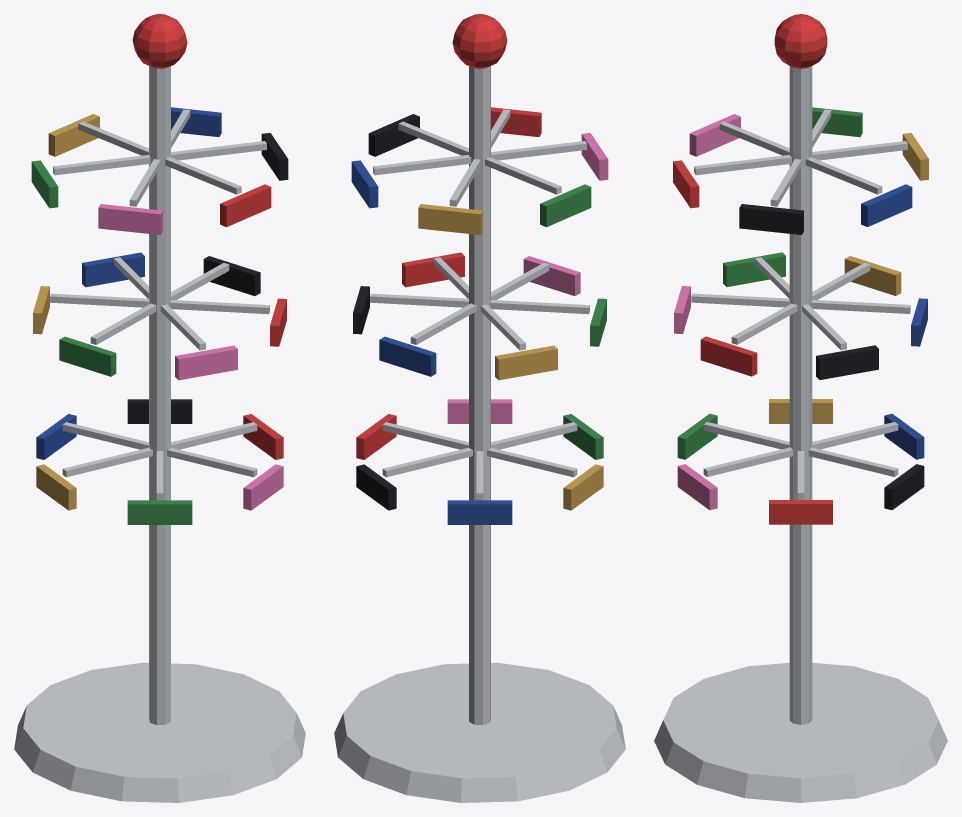
The model's file is glasses_carousel.glb.
The picture shows the model from 3 angles, left to right: view 1: azimuth 30°, elevation 25°; view 2: azimuth 150°, elevation 25°; view 3: azimuth 270°, elevation 25°; orthographic projection.
Visible parts, largest first — view 1: foot_carousel_chrome, pole_carousel_chrome, arm_carousel_chrome, pair_frame_e07ab8 (×3), pair_frame_3a8a4a (×3), pair_frame_2c4f9e (×3), pair_frame_1e1e24 (×3), pair_frame_d23a3a (×3), pair_frame_c8a050 (×3), cap_carousel_cap; view 2: foot_carousel_chrome, pole_carousel_chrome, arm_carousel_chrome, pair_frame_c8a050 (×3), pair_frame_2c4f9e (×3), pair_frame_d23a3a (×3), pair_frame_e07ab8 (×3), pair_frame_3a8a4a (×3), pair_frame_1e1e24 (×3), cap_carousel_cap; view 3: foot_carousel_chrome, pole_carousel_chrome, arm_carousel_chrome, pair_frame_1e1e24 (×3), pair_frame_d23a3a (×3), pair_frame_3a8a4a (×3), pair_frame_c8a050 (×3), pair_frame_2c4f9e (×3), pair_frame_e07ab8 (×3), cap_carousel_cap.
Boxes of the visible parts, x1,y1,x2,y2 form: foot_carousel_chrome: [14, 662, 305, 802]; pole_carousel_chrome: [149, 66, 170, 725]; arm_carousel_chrome: [50, 109, 269, 499]; pair_frame_e07ab8 (×3): [98, 204, 283, 510]; pair_frame_3a8a4a (×3): [31, 160, 192, 524]; pair_frame_2c4f9e (×3): [36, 107, 221, 459]; pair_frame_1e1e24 (×3): [127, 133, 288, 423]; pair_frame_d23a3a (×3): [220, 184, 286, 459]; pair_frame_c8a050 (×3): [33, 114, 99, 510]; cap_carousel_cap: [132, 14, 187, 68]; foot_carousel_chrome: [334, 662, 625, 802]; pole_carousel_chrome: [469, 66, 490, 725]; arm_carousel_chrome: [370, 109, 589, 499]; pair_frame_c8a050 (×3): [418, 204, 603, 510]; pair_frame_2c4f9e (×3): [351, 160, 512, 524]; pair_frame_d23a3a (×3): [356, 107, 541, 459]; pair_frame_e07ab8 (×3): [447, 133, 608, 423]; pair_frame_3a8a4a (×3): [540, 184, 606, 459]; pair_frame_1e1e24 (×3): [353, 114, 419, 510]; cap_carousel_cap: [452, 14, 507, 68]; foot_carousel_chrome: [654, 662, 947, 802]; pole_carousel_chrome: [789, 66, 812, 724]; arm_carousel_chrome: [691, 109, 910, 499]; pair_frame_1e1e24 (×3): [739, 204, 924, 510]; pair_frame_d23a3a (×3): [673, 160, 832, 524]; pair_frame_3a8a4a (×3): [677, 107, 862, 459]; pair_frame_c8a050 (×3): [769, 133, 928, 423]; pair_frame_2c4f9e (×3): [861, 184, 927, 459]; pair_frame_e07ab8 (×3): [674, 114, 740, 510]; cap_carousel_cap: [774, 14, 827, 68].
Size of the model in its own units: 0.64 by 1.74 by 0.64.
